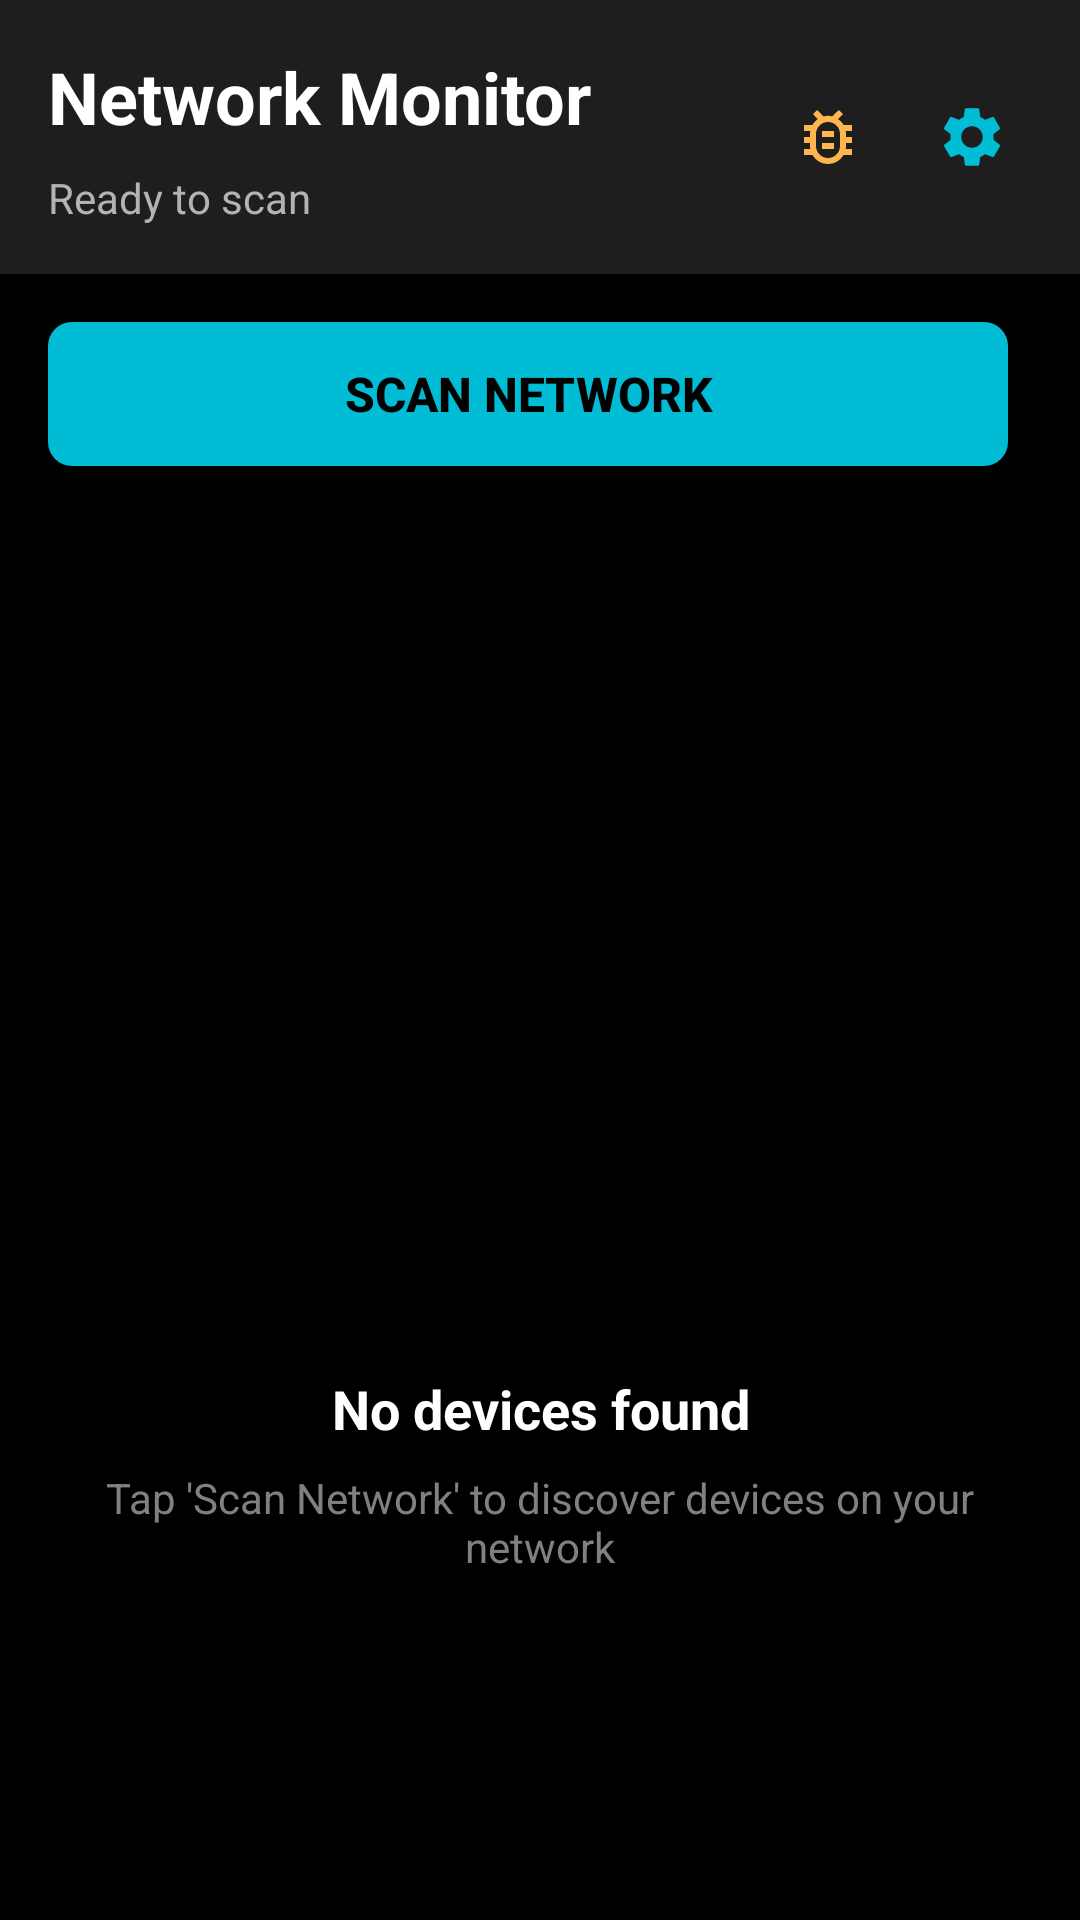

Named icons in this screenshot (1080px x 1920px) and their bounding boxes, (x1, y1, x2, y2):
Debug menu: (804, 110, 852, 164)
Settings menu: (944, 108, 1000, 166)
